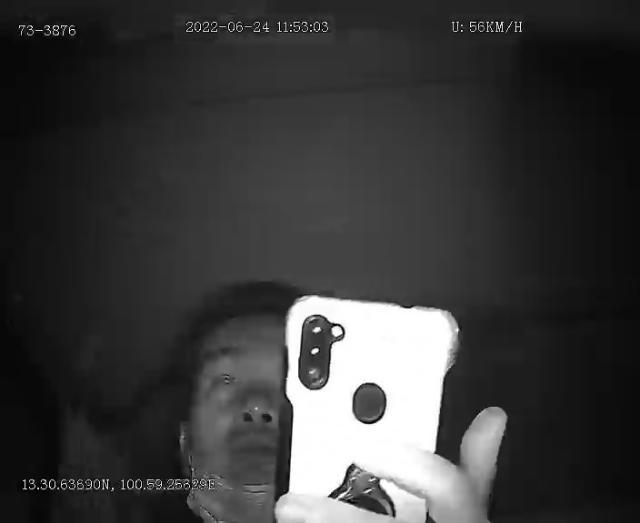PhoneUse: (273, 291, 463, 523)
